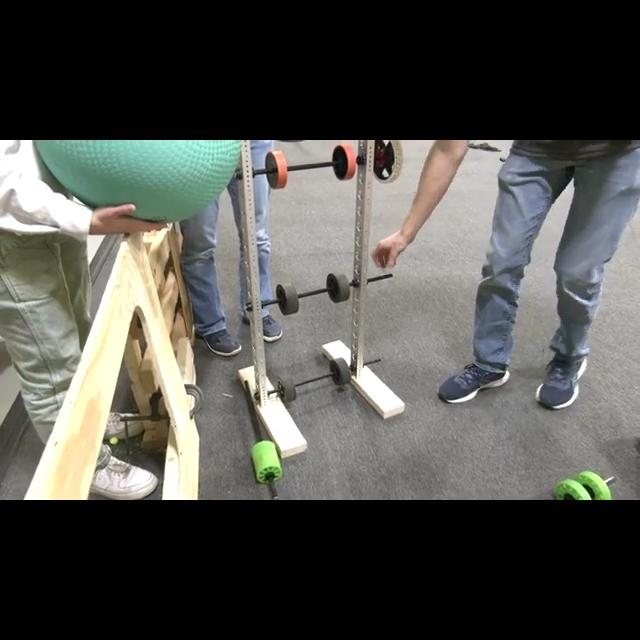ALGAE: (32, 140, 242, 224)
